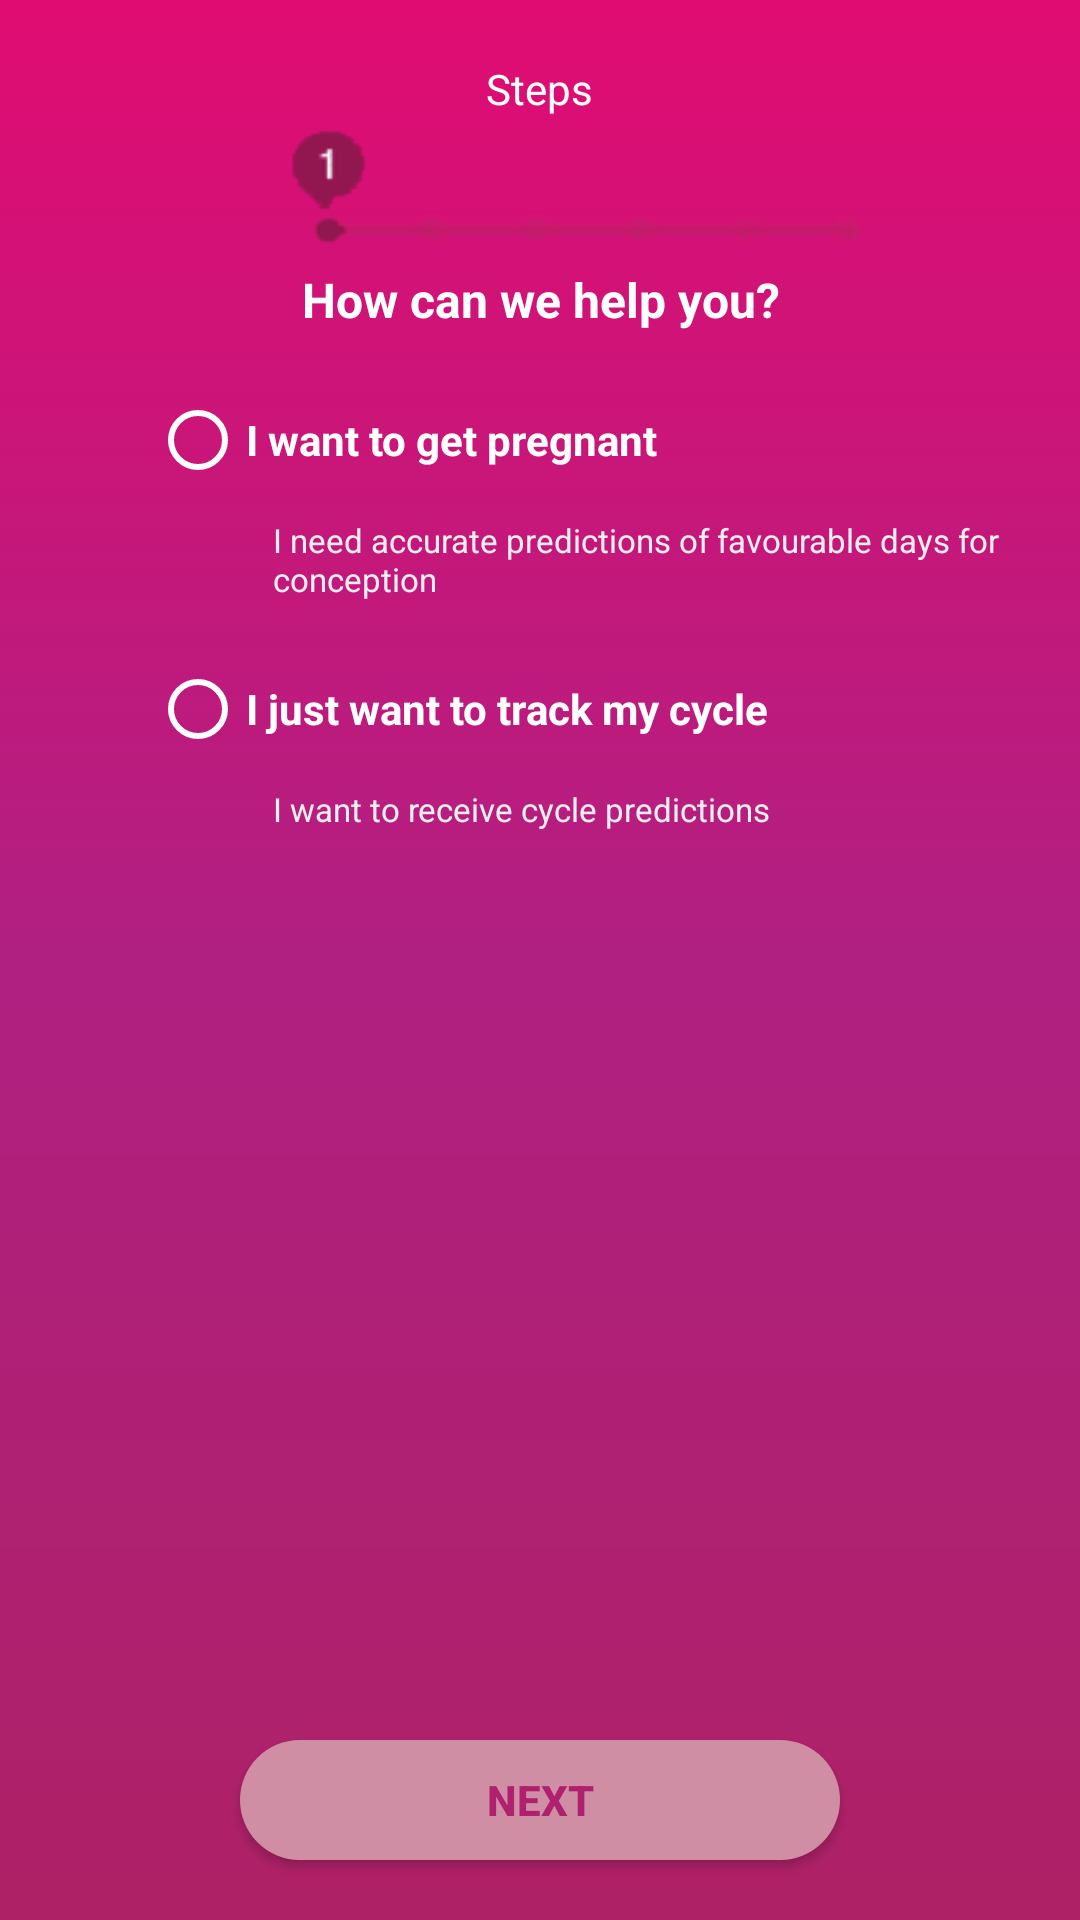

Named icons in this screenshot (1080 × 1920) and their centers, point (x, y):
progressone: point (328, 187)
